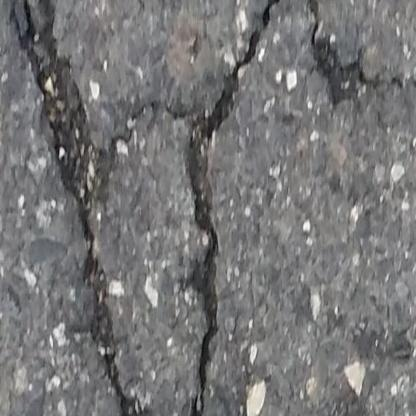Cracks: (6, 0, 286, 416), (292, 0, 416, 120)
